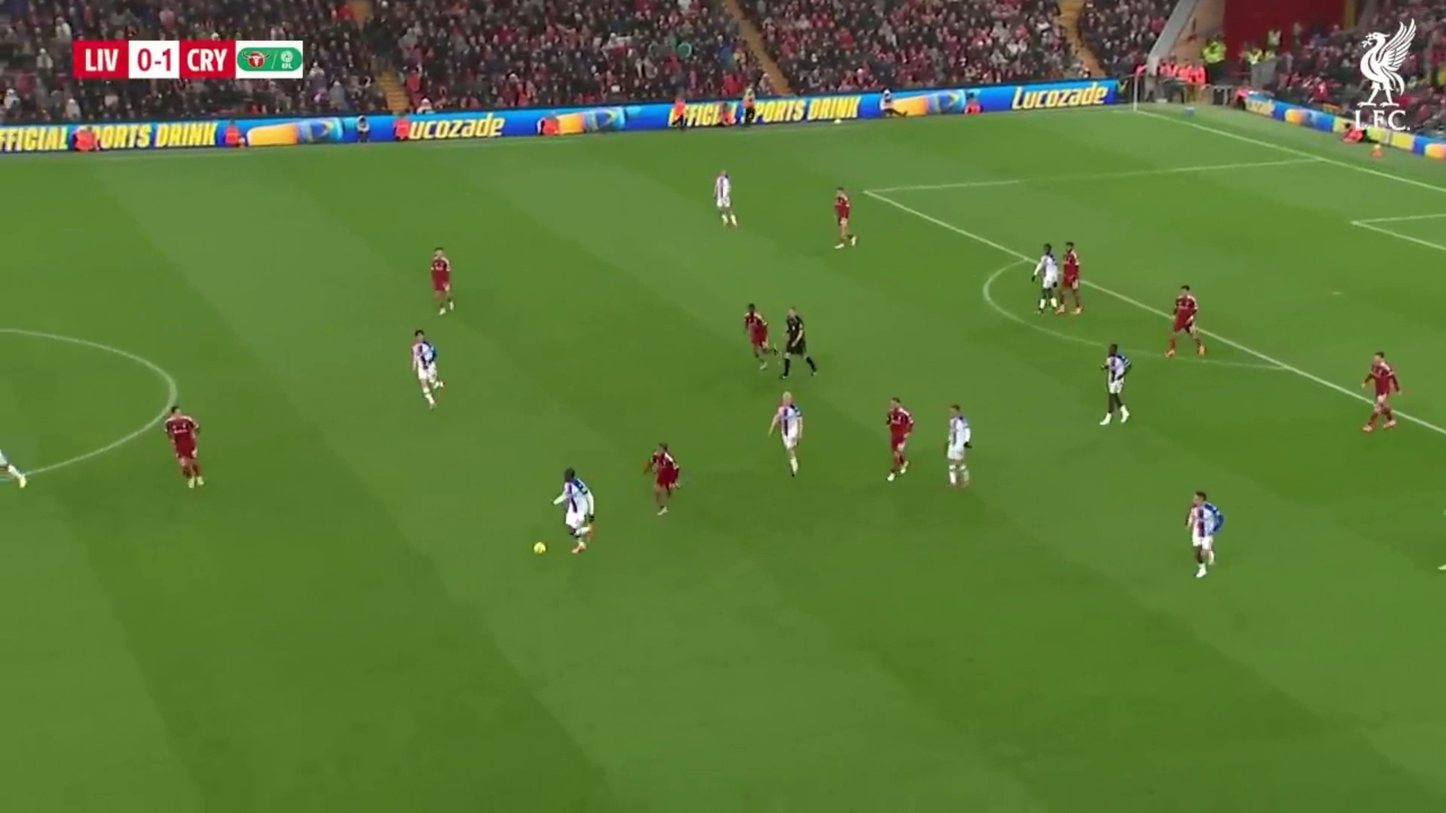player: (552, 465, 597, 555), (1361, 352, 1402, 433), (163, 408, 203, 491), (1186, 489, 1222, 579), (1164, 284, 1205, 360), (1046, 243, 1085, 317), (1098, 342, 1131, 429), (771, 393, 804, 478), (644, 444, 681, 518), (780, 307, 816, 379), (411, 330, 442, 409), (945, 404, 973, 489), (884, 399, 913, 480), (1059, 243, 1084, 315), (428, 247, 454, 315), (1034, 244, 1059, 313), (830, 187, 857, 250), (743, 304, 769, 369), (712, 170, 737, 232)
